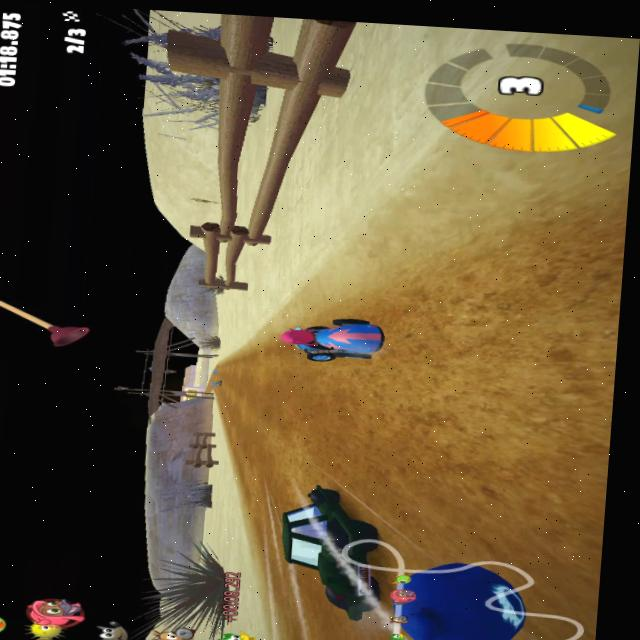bonus: (208, 368, 220, 373)
enemy_kart: (276, 477, 383, 619), (216, 375, 226, 389)
player_kart: (277, 314, 393, 364)
track: (388, 184, 627, 380), (372, 450, 605, 640), (227, 357, 615, 462), (243, 444, 388, 489), (279, 616, 368, 640), (252, 483, 281, 553), (241, 326, 273, 359), (213, 392, 228, 411), (218, 357, 229, 372), (202, 373, 212, 388)
